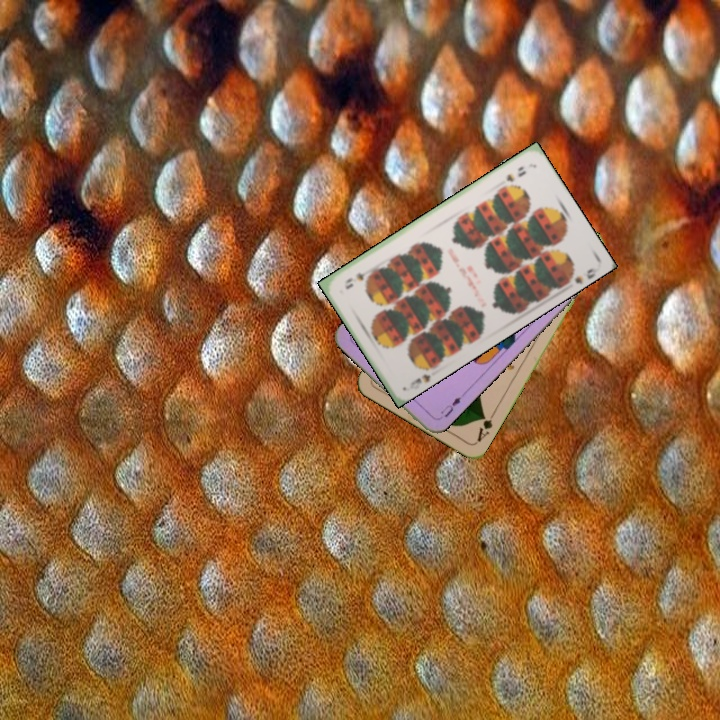EU: (434, 390, 465, 423)
GA: (473, 408, 498, 444)
S9: (406, 359, 439, 392), (502, 162, 528, 185)
